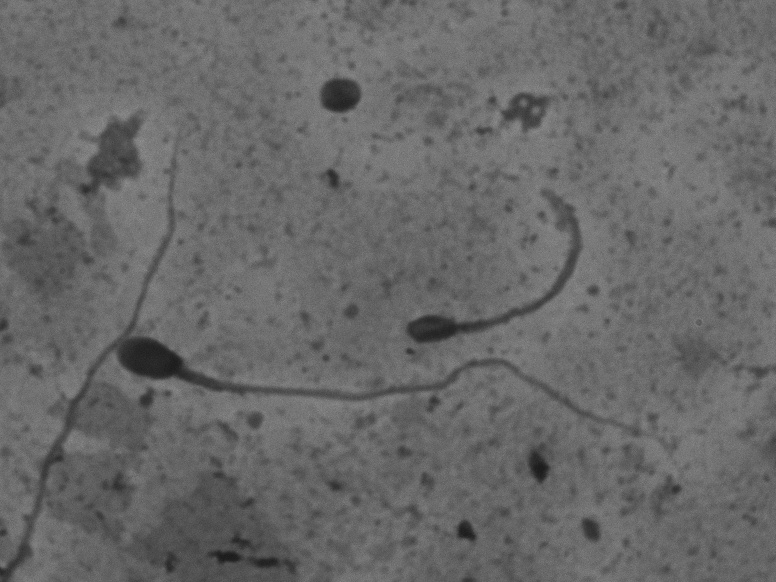Abnormal: (110, 330, 696, 489)
